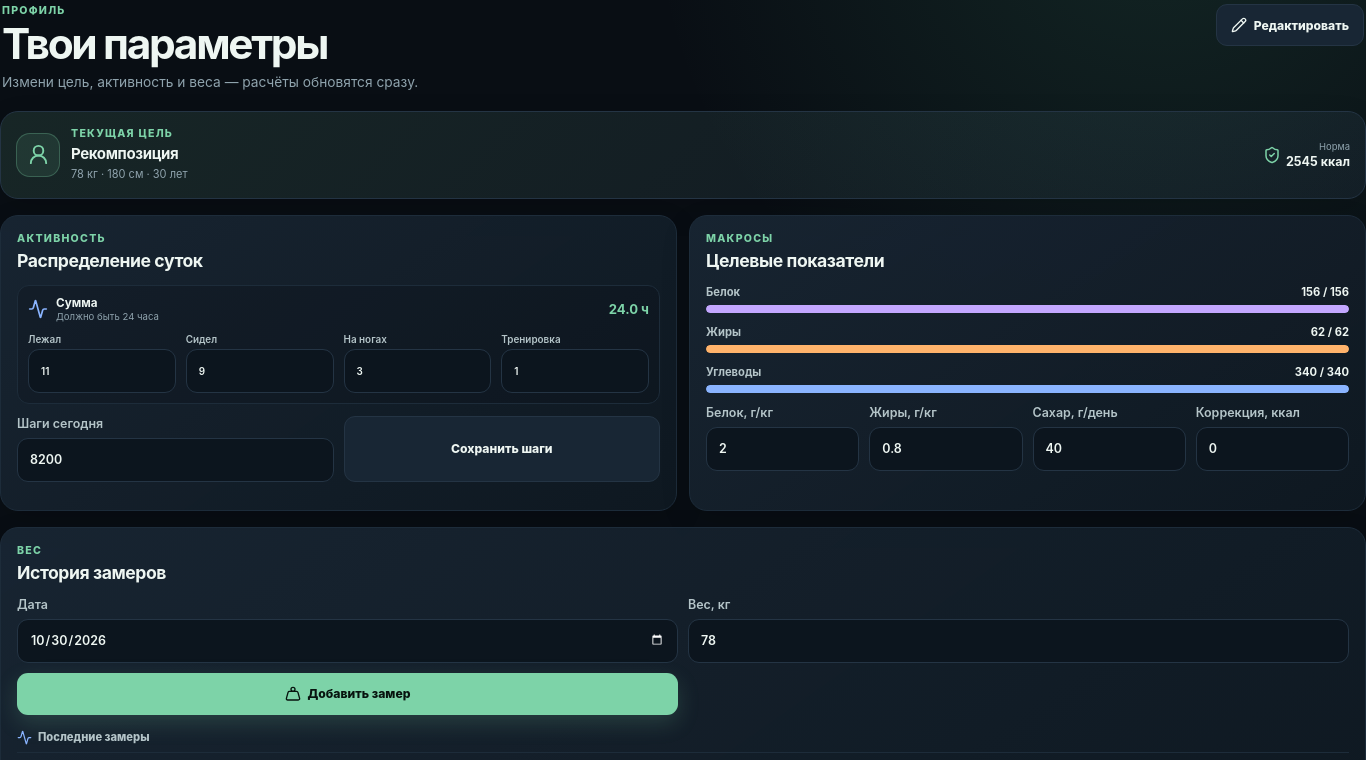
it: страница профиля › редактирует профиль через онбординг
This screenshot has width=1366, height=760.
Click the button "Редактировать" at point(1290, 25), box [1216, 4, 1364, 46]
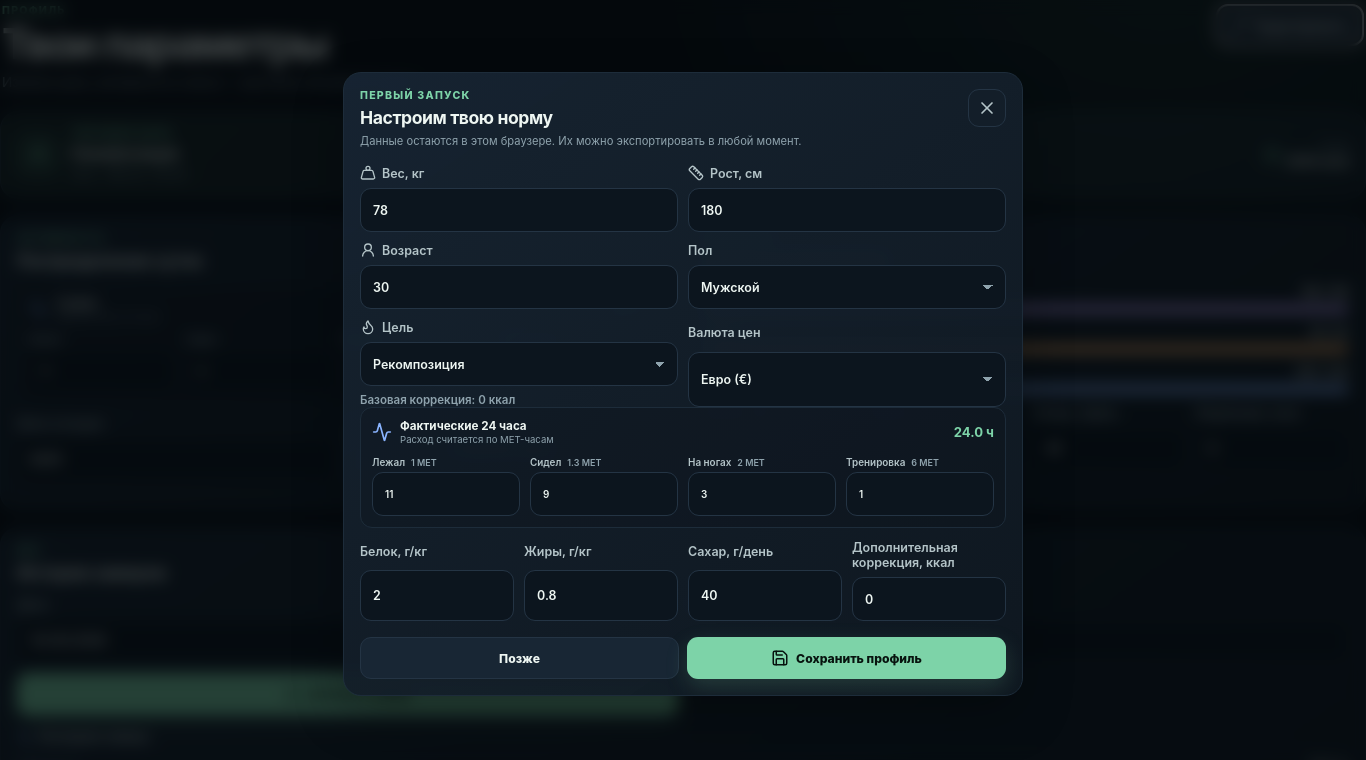
Replace the text in the number field labelled "Вес, кг" with "84" at point(519, 210), box [360, 188, 678, 232]
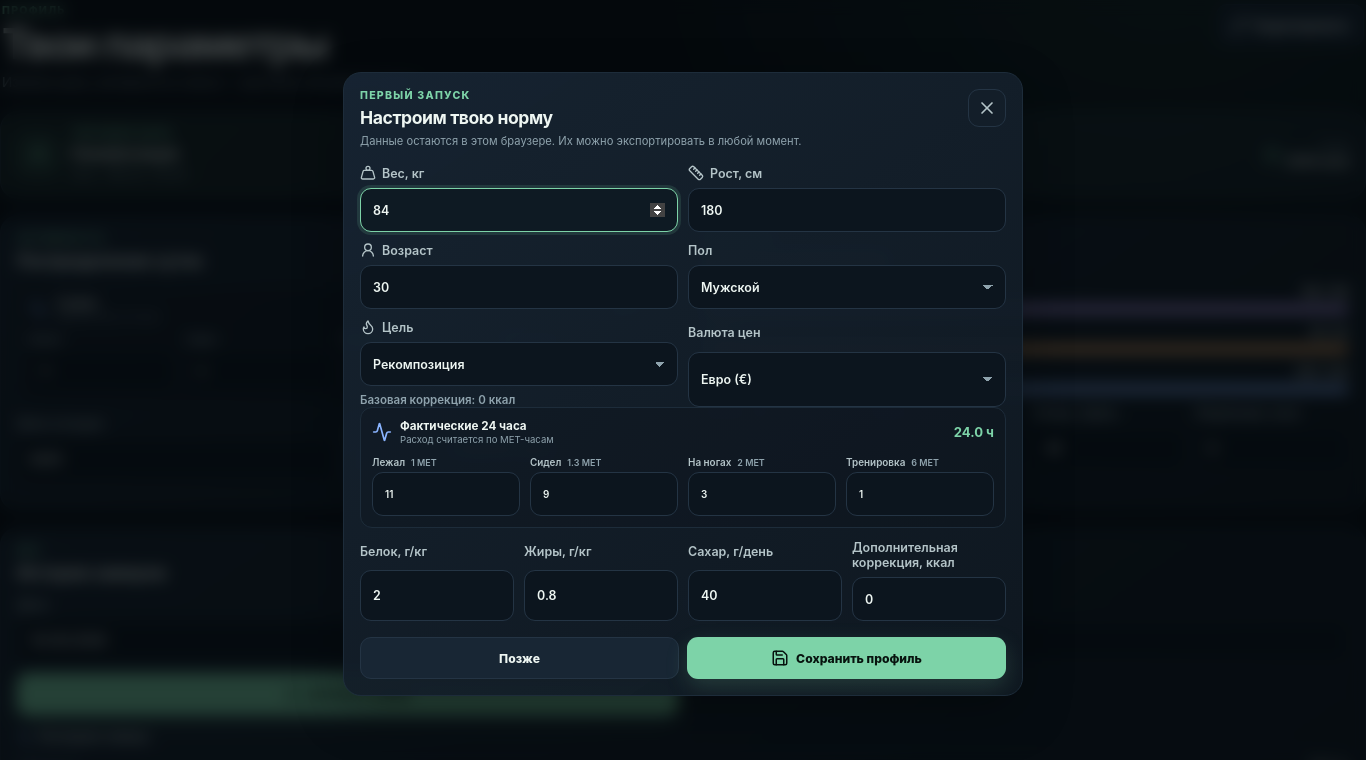
Click the button "Сохранить профиль" at point(846, 658), box [687, 638, 1006, 680]
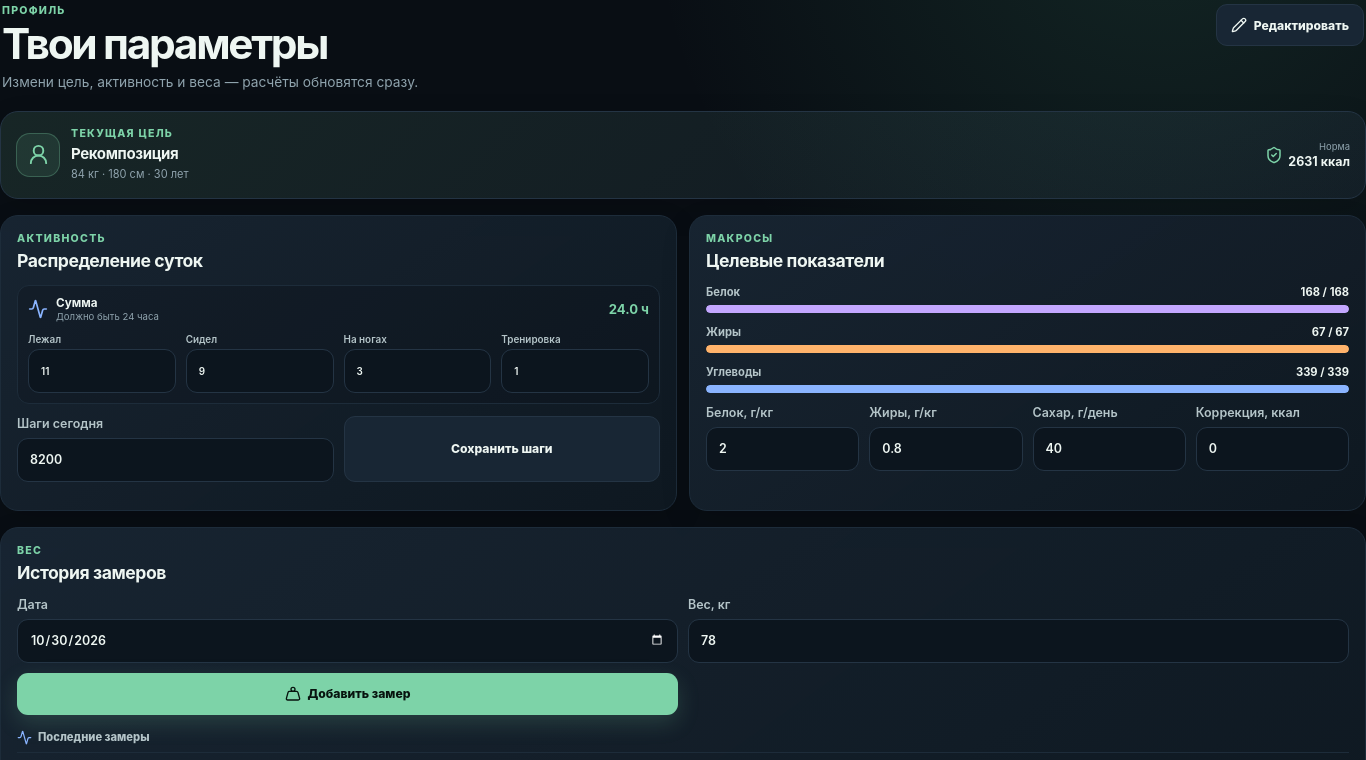
Expected: the element that starts with "Текущая цель" shows "84 кг", [0, 111, 1365, 198]
